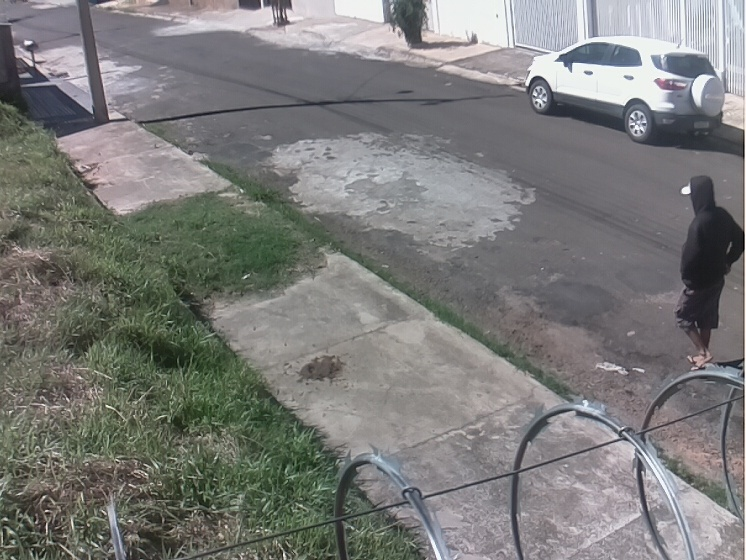person: (672, 175, 746, 373)
